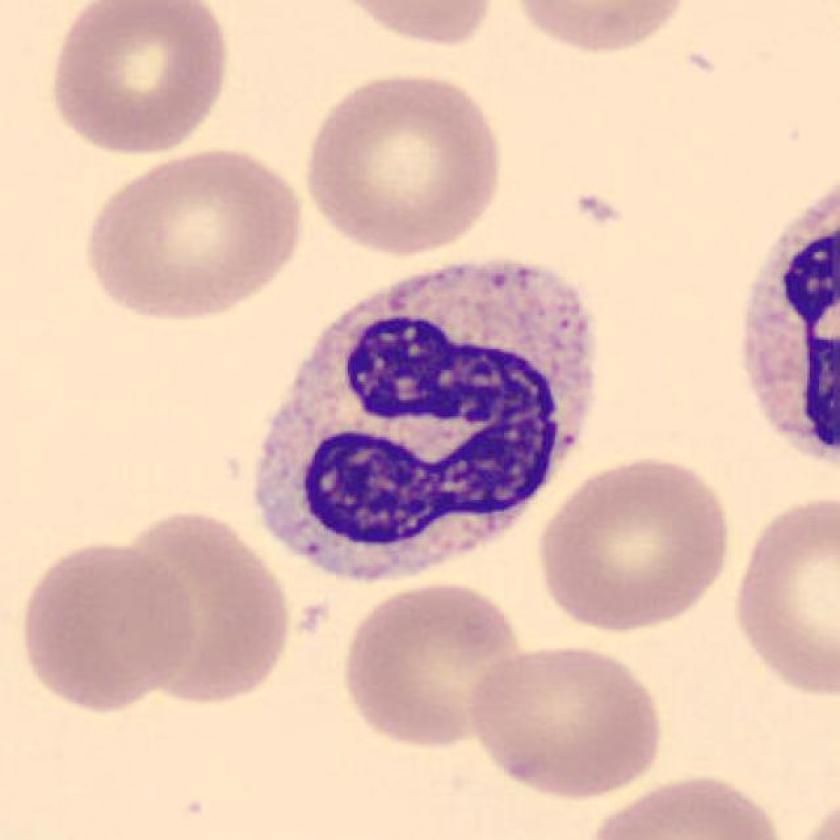neutrophil: (256, 264, 592, 577)
